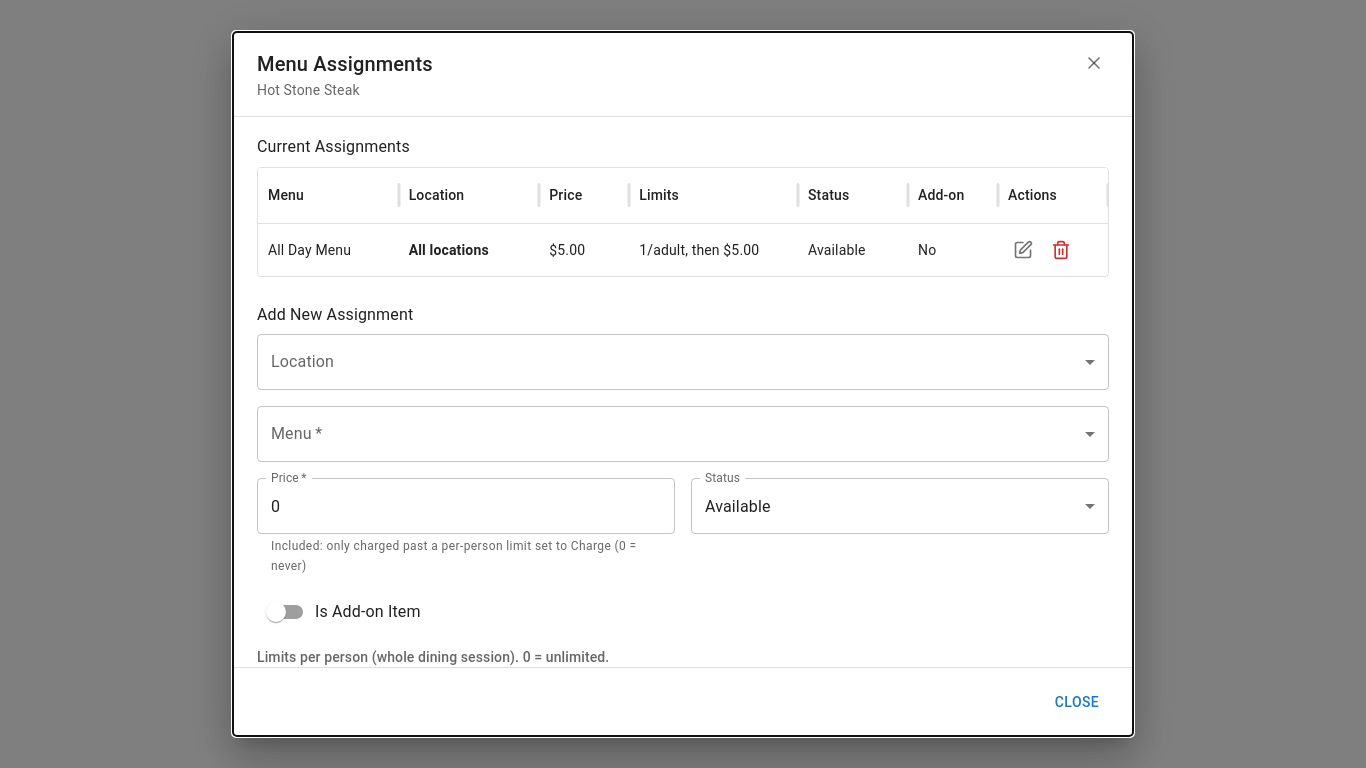
Scenario: Menu assignment dialog › shows the server's reason when a save is rejected
Click the button named "Edit assignment": (1023, 250) [1008,235,1038,265]
(page scrolled)
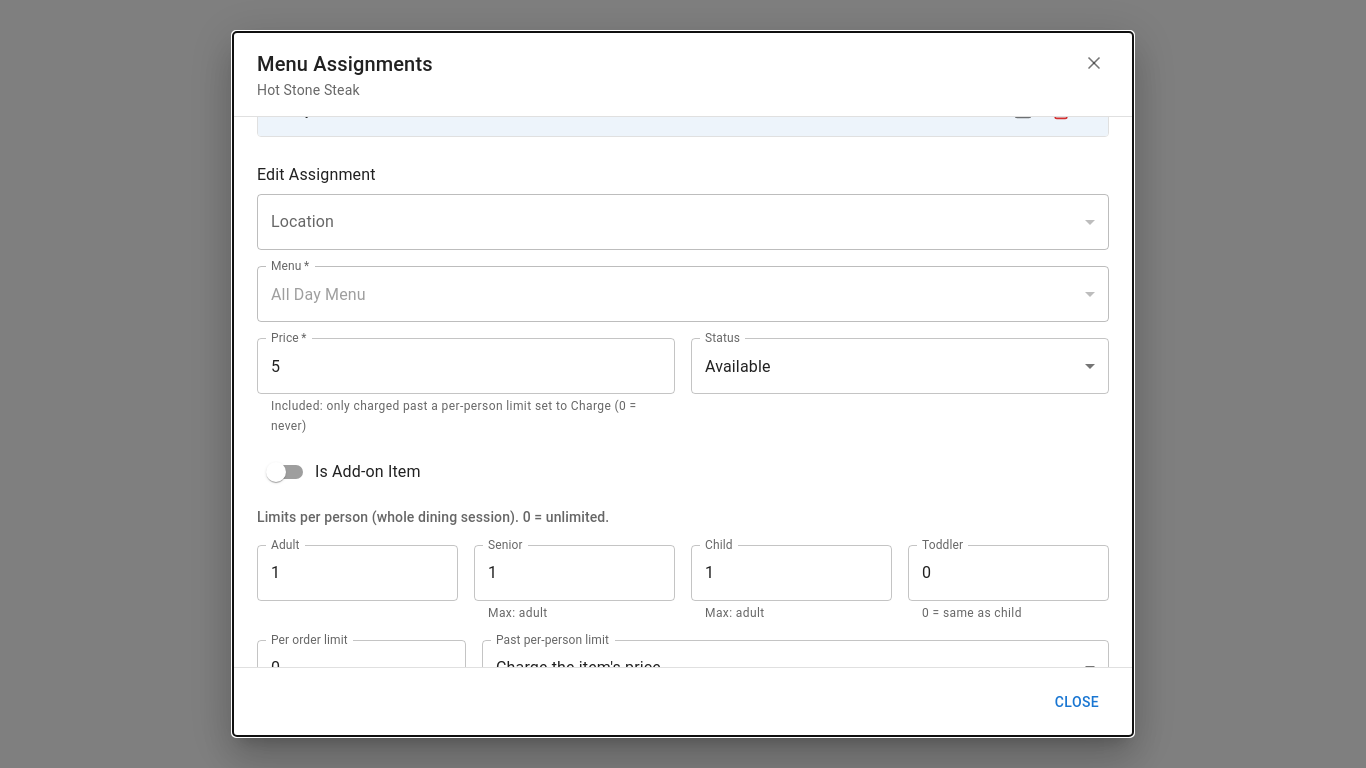
Check: the number field labelled "Price *" holds "5", box [257,338,675,394]
Submit the form named "Update Assignment"
(page scrolled)
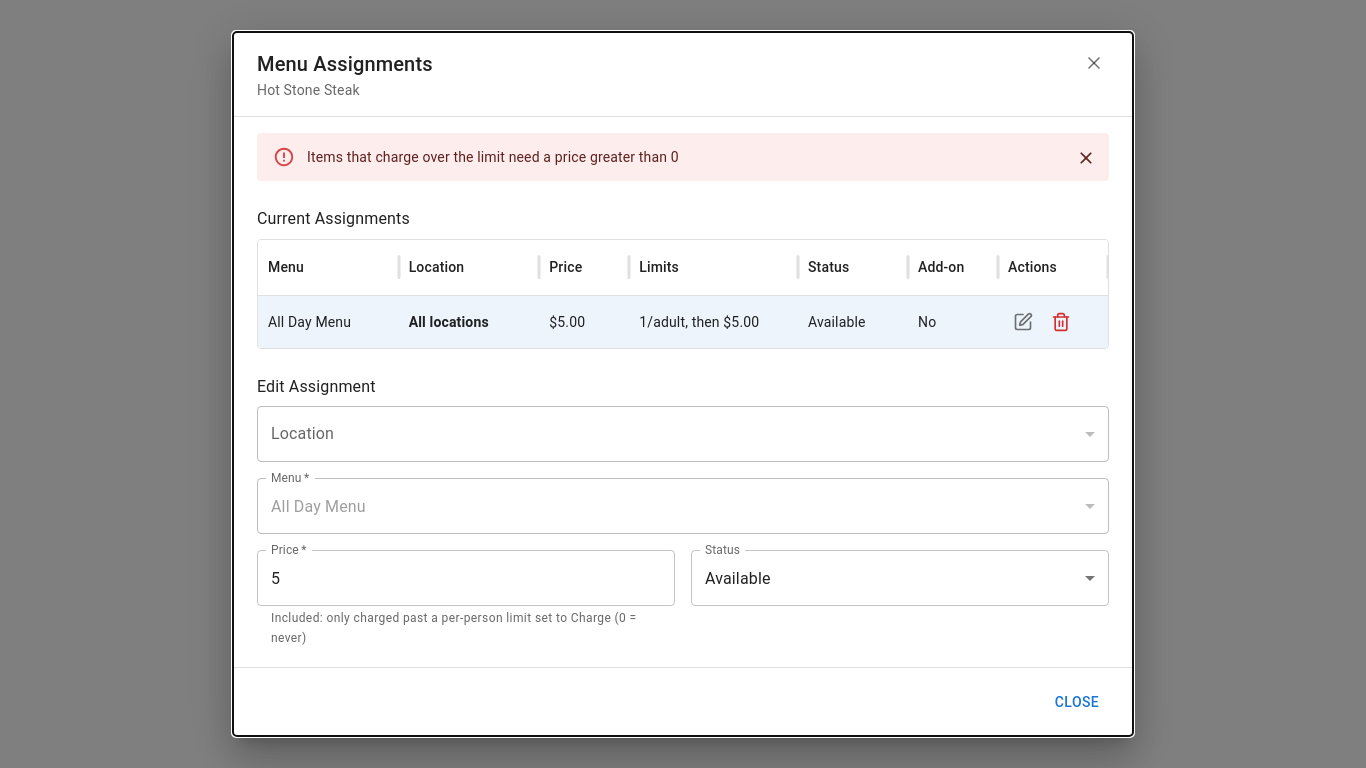
Check: the text "Items that charge over the limit need a price greater than 0" is shown, box [307,149,679,165]
